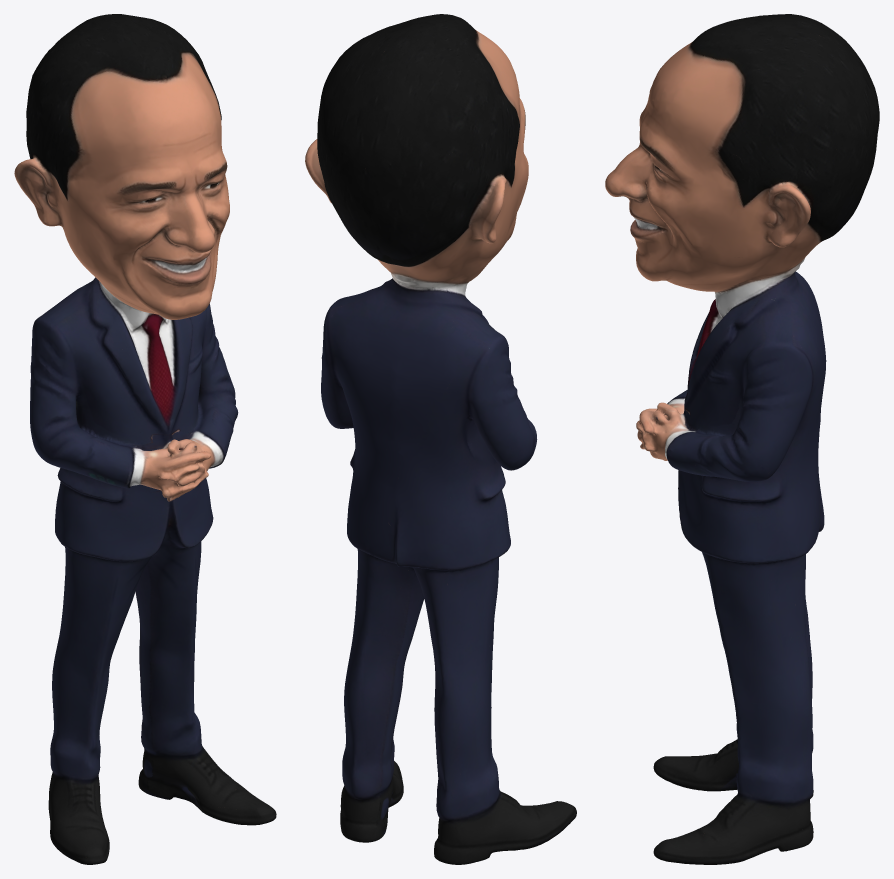
The model's file is ahlil berdiri.glb.
3 renders of one model, left to right at view 1: azimuth 30°, elevation 25°; view 2: azimuth 150°, elevation 25°; view 3: azimuth 270°, elevation 25°, orthographic. The views are drawn at different scales.
Size of the model in its own units: 0.4995 by 1.9 by 0.5923.
Materials: 1 (1 with a texture image).
